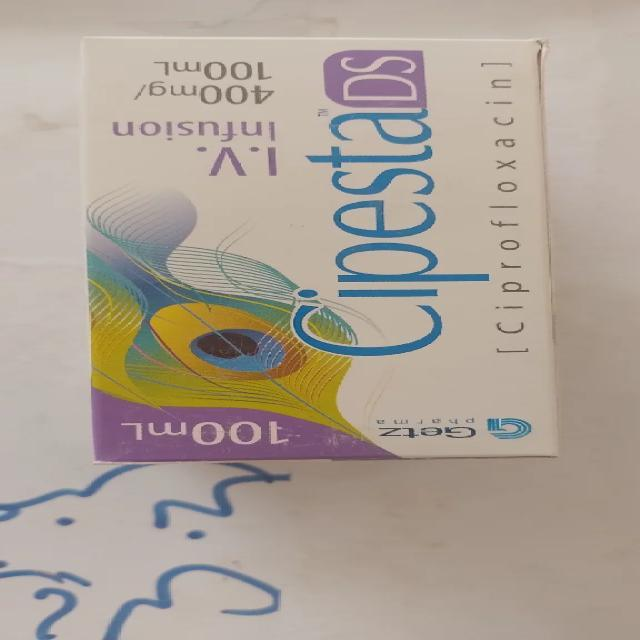drug-name: (288, 46, 490, 358)
